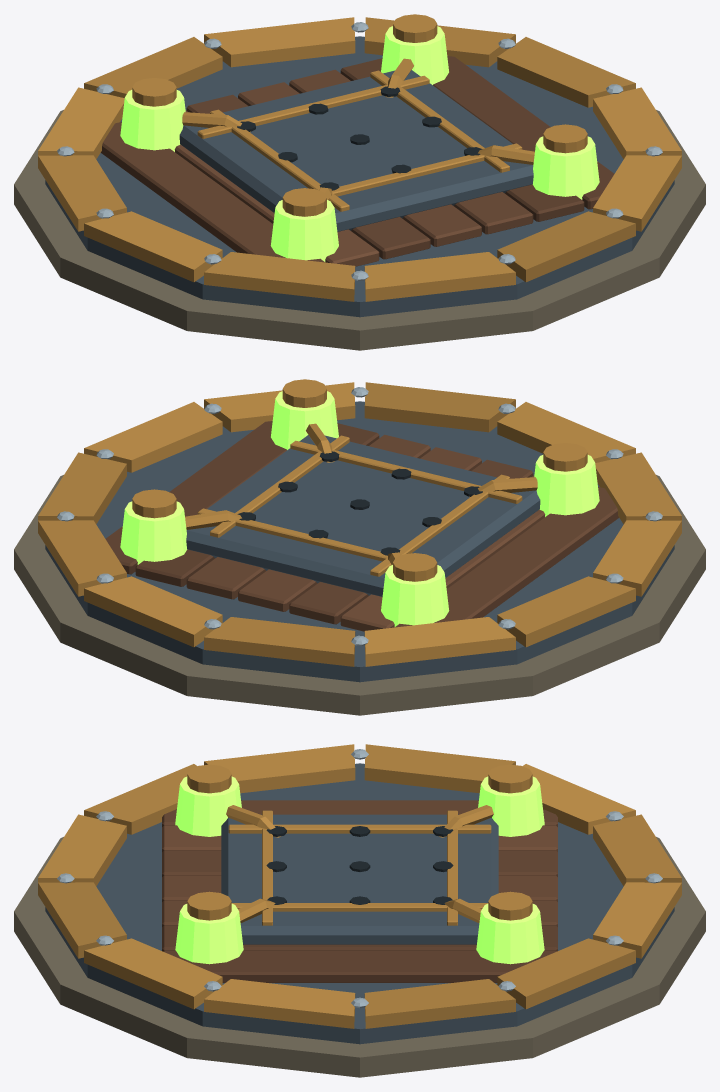
Rendered from trap__toxica__L05.glb.
The picture shows the model from 3 angles, top to bottom: view 1: azimuth 30°, elevation 25°; view 2: azimuth 150°, elevation 25°; view 3: azimuth 270°, elevation 25°; orthographic projection.
Visible parts, largest first — view 1: structure, weapon; view 2: structure, weapon; view 3: structure, weapon.
Part boxes in pixels (bbox=[...]): structure: bbox=[14, 17, 705, 350]; weapon: bbox=[120, 14, 599, 261]; structure: bbox=[14, 382, 705, 715]; weapon: bbox=[120, 379, 599, 626]; structure: bbox=[14, 744, 705, 1077]; weapon: bbox=[175, 764, 544, 964].
Bounding box in the file's own units: 0.8228 × 0.1232 × 0.8228.
